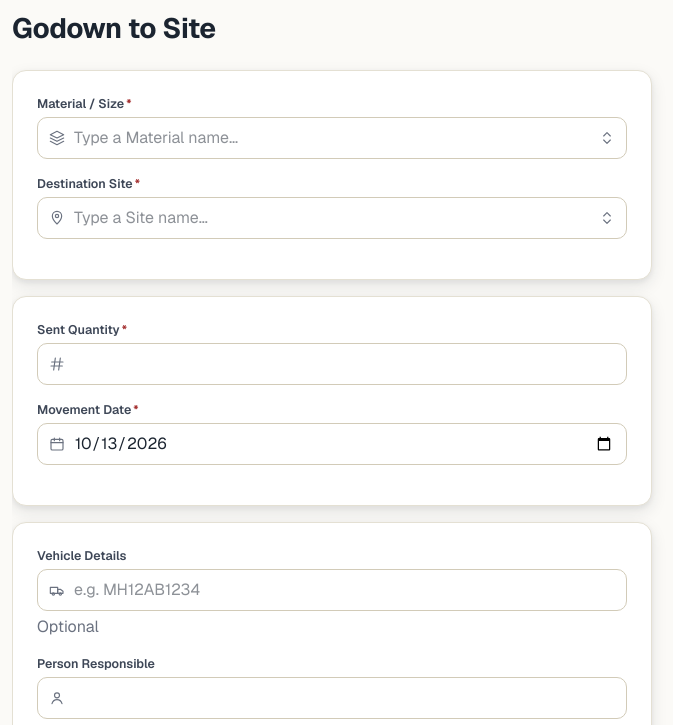
Test case: NewMovementPage › flattens each Material's Sizes into Material/Size picker options
The width and height of the screenshot is (673, 725).
In the dropdown labelled "Material / Size": (332, 138) [37,117,627,159], type "tmt"
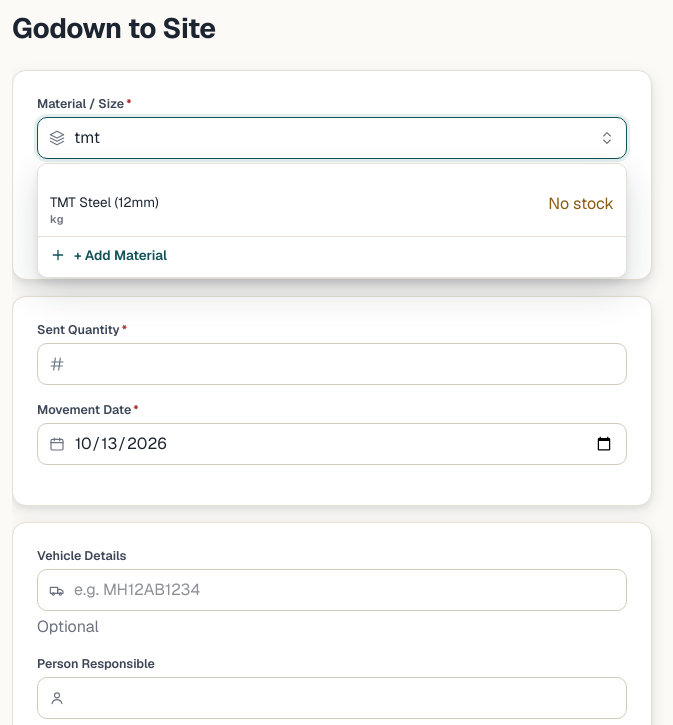
Expected: the text "TMT Steel (12mm)" is shown, [50,192,159,212]
